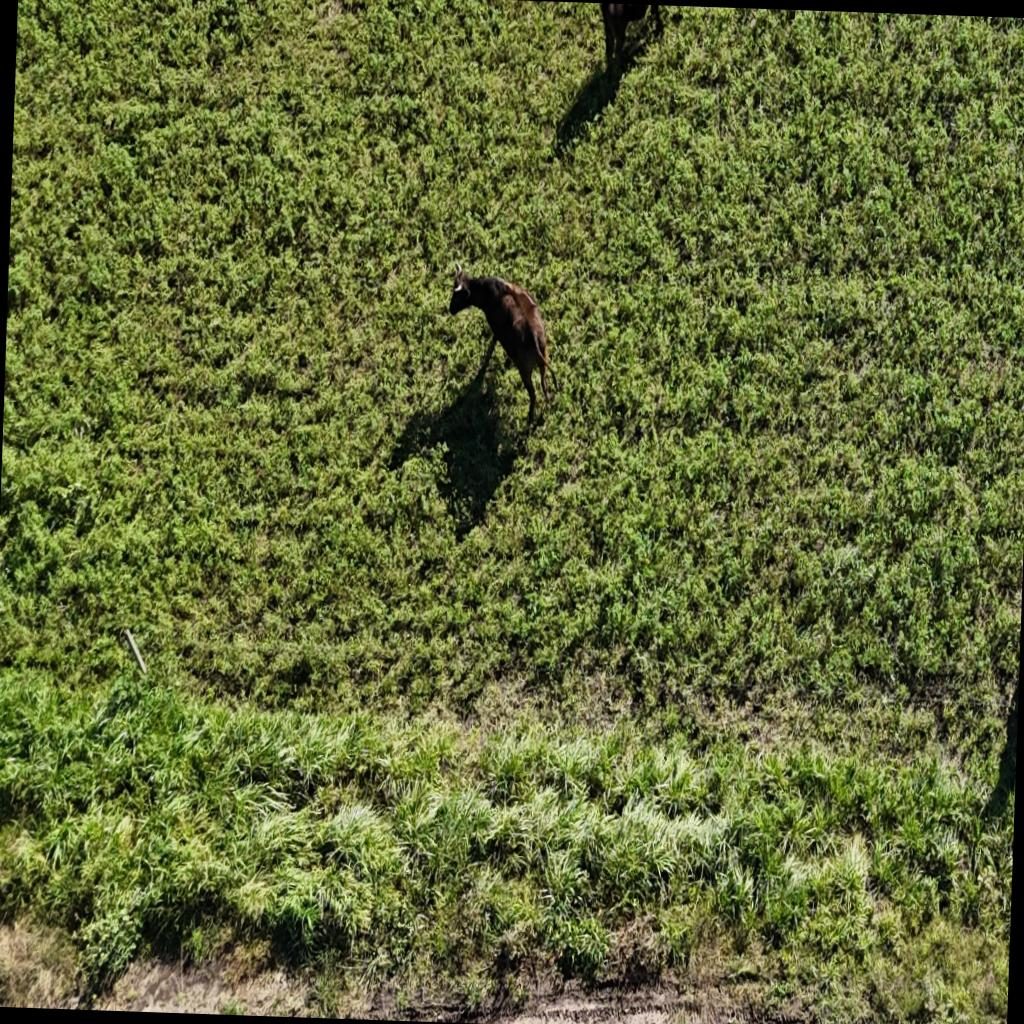cow: (438, 254, 558, 442), (585, 2, 667, 110)
